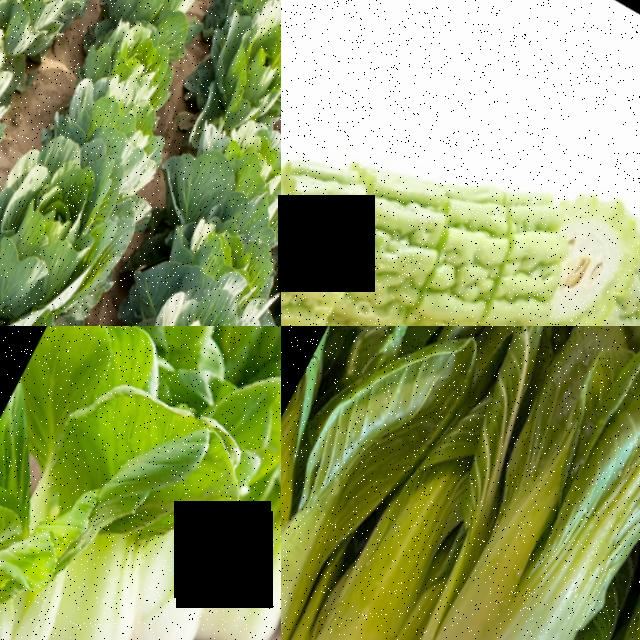bitter gourd: (306, 80, 600, 326), (281, 138, 394, 325), (518, 160, 640, 326)
bok choy: (284, 326, 640, 640), (0, 346, 192, 640), (95, 391, 281, 640), (462, 439, 640, 640), (281, 488, 483, 640), (165, 394, 281, 640), (281, 437, 369, 640)
cabbage: (0, 131, 146, 326), (138, 160, 281, 326), (51, 54, 178, 179), (186, 21, 281, 170), (0, 0, 103, 66), (104, 0, 232, 28)
